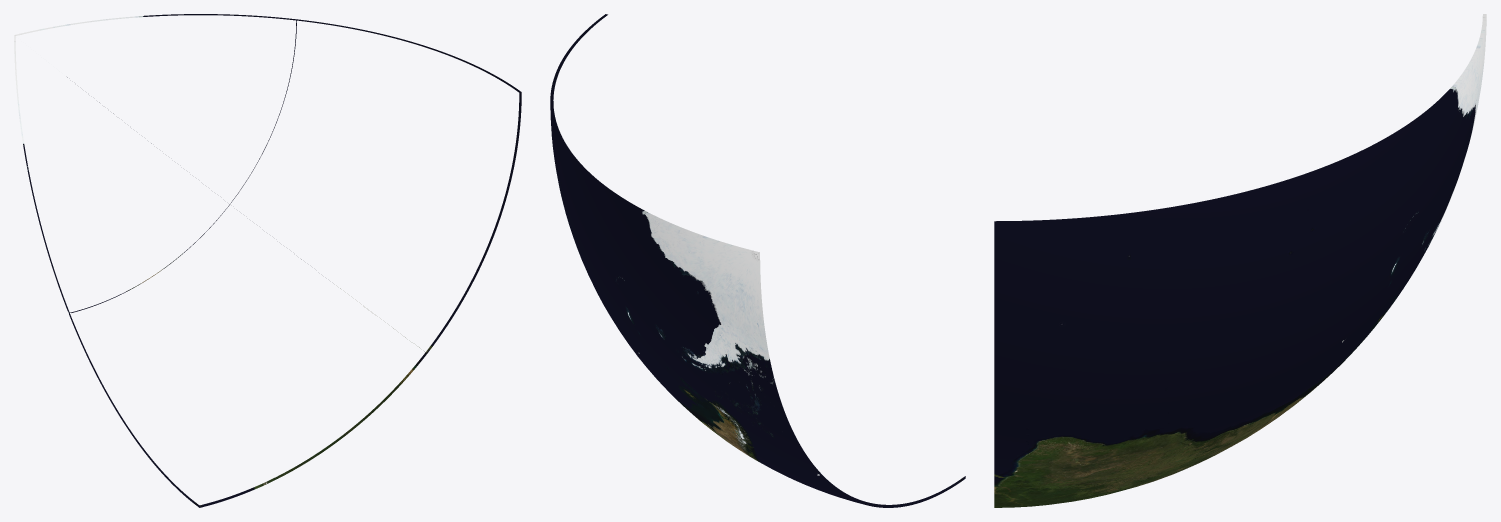
The picture shows the model from 3 angles, left to right: view 1: azimuth 30°, elevation 25°; view 2: azimuth 150°, elevation 25°; view 3: azimuth 270°, elevation 25°; orthographic projection. The views are drawn at different scales.
Parts seen in each view (by area): view 1: DefaultName.009, DefaultName.012, DefaultName.006, DefaultName.003; view 2: DefaultName.003, DefaultName.006, DefaultName.012, DefaultName.009; view 3: DefaultName.009, DefaultName.006, DefaultName.012, DefaultName.003.
Boxes of the visible parts, x1=… form: DefaultName.009: x1=296, y1=19, x2=521, y2=353; DefaultName.012: x1=69, y1=313, x2=427, y2=507; DefaultName.006: x1=14, y1=14, x2=296, y2=203; DefaultName.003: x1=14, y1=35, x2=229, y2=313; DefaultName.003: x1=639, y1=252, x2=820, y2=475; DefaultName.006: x1=564, y1=146, x2=759, y2=353; DefaultName.012: x1=637, y1=354, x2=965, y2=507; DefaultName.009: x1=550, y1=14, x2=638, y2=355; DefaultName.009: x1=994, y1=161, x2=1341, y2=478; DefaultName.006: x1=1339, y1=14, x2=1486, y2=342; DefaultName.012: x1=994, y1=343, x2=1341, y2=507; DefaultName.003: x1=1342, y1=41, x2=1485, y2=363.
Size of the model in its own units: 63781 by 63781 by 63568.
4 materials, 4 textured.
